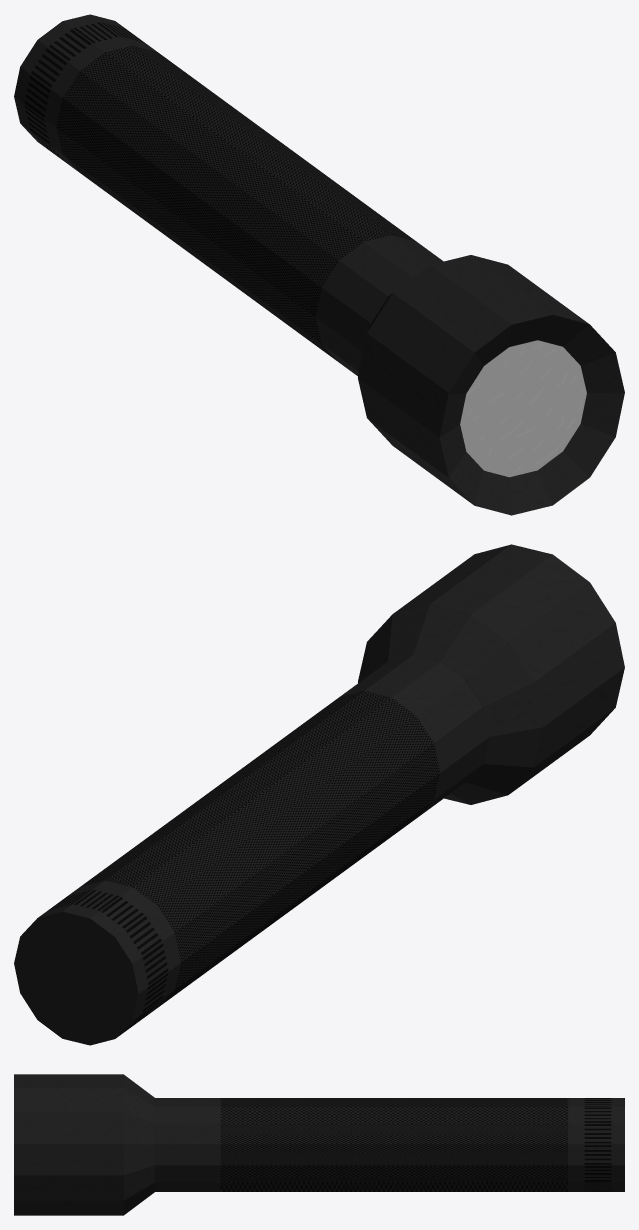
Rendered from flashlight.obj.
3 views of the same model, one above another, from view 1: azimuth 30°, elevation 25°; view 2: azimuth 150°, elevation 25°; view 3: azimuth 270°, elevation 25° (orthographic). The views are drawn at different scales.
Visible parts, largest first — view 1: handle, head; view 2: handle, head; view 3: handle, head.
Boxes of the visible parts, bbox=[...] form: handle: bbox=[14, 14, 443, 375]; head: bbox=[358, 255, 624, 515]; handle: bbox=[14, 655, 489, 1045]; head: bbox=[358, 544, 624, 804]; handle: bbox=[155, 1098, 624, 1191]; head: bbox=[14, 1074, 154, 1215].
Size of the model in its own units: 0.1907 by 0.1875 by 0.8125.
1 material, 1 textured.
